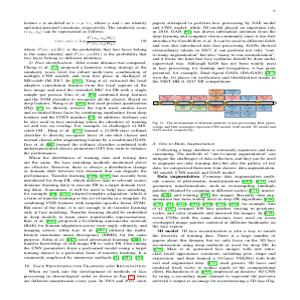diagram: (151, 88, 278, 119)
text: (17, 18, 149, 287), (150, 120, 279, 285), (151, 19, 279, 85)
